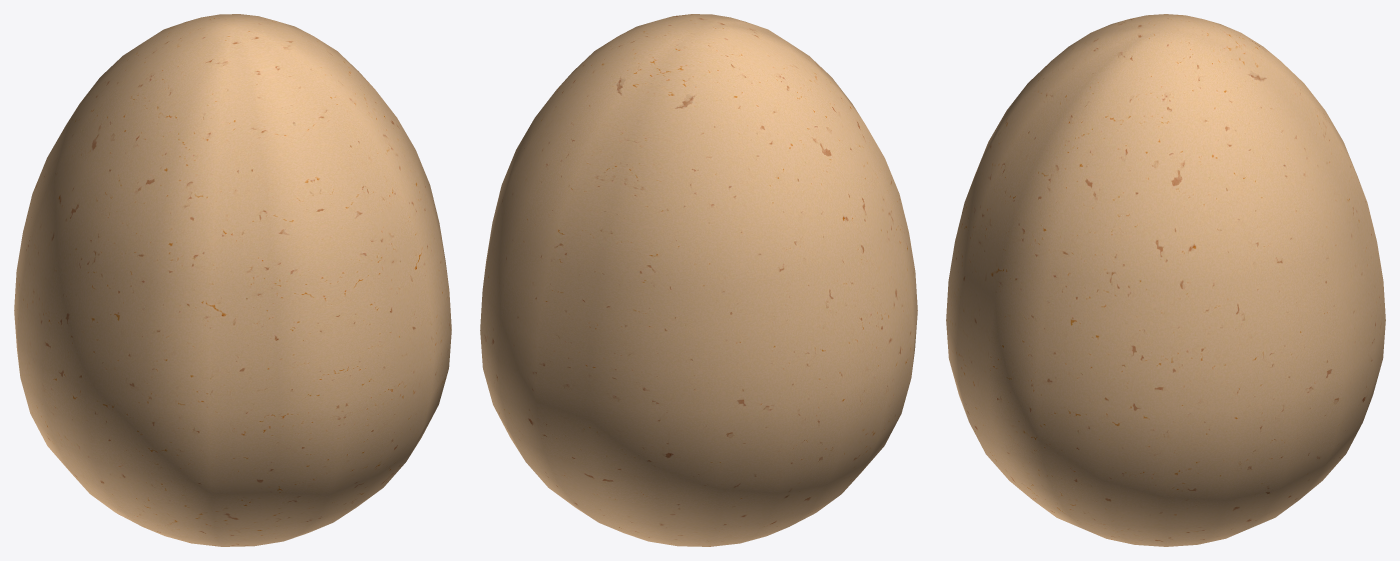
File: egg2.fbx
3 views of the same model, side by side, from view 1: azimuth 30°, elevation 25°; view 2: azimuth 150°, elevation 25°; view 3: azimuth 270°, elevation 25° (orthographic).
Visible parts, largest first — view 1: ChickenEgg; view 2: ChickenEgg; view 3: ChickenEgg.
Part boxes in pixels (x1,y1,x2,y2): ChickenEgg: (14, 14, 451, 546); ChickenEgg: (480, 14, 917, 546); ChickenEgg: (946, 14, 1385, 546).
Bounding box in the file's own units: 198 × 249 × 198.
